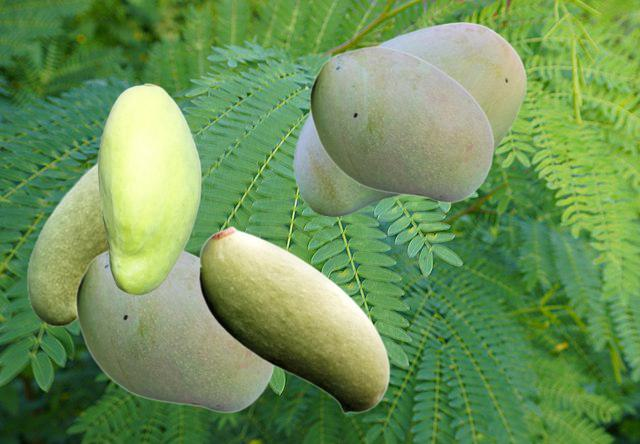green_mango: (293, 22, 526, 215), (198, 225, 389, 413), (75, 250, 274, 412), (309, 45, 493, 202), (97, 83, 200, 294), (26, 162, 106, 325)
